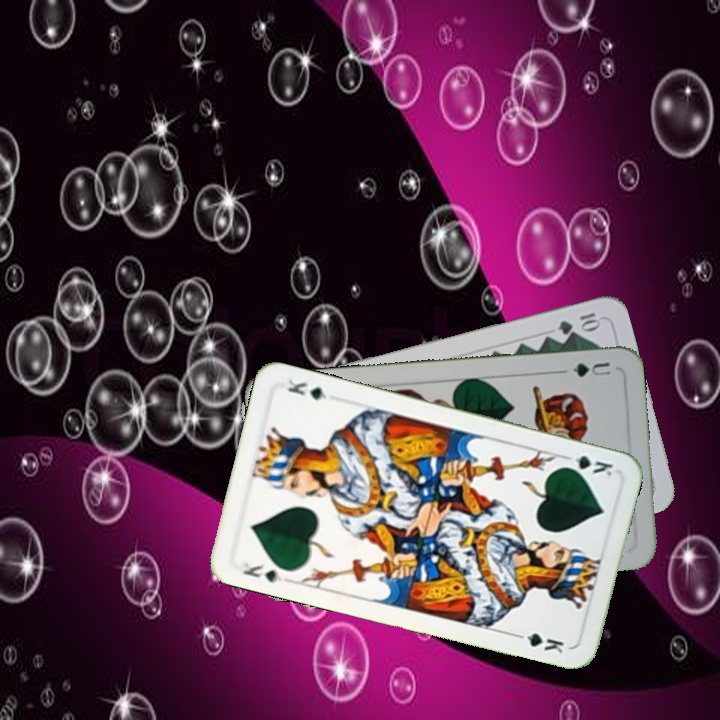G10: (554, 308, 603, 337)
GK: (557, 451, 616, 479), (239, 558, 286, 587)
GU: (558, 358, 615, 380)
